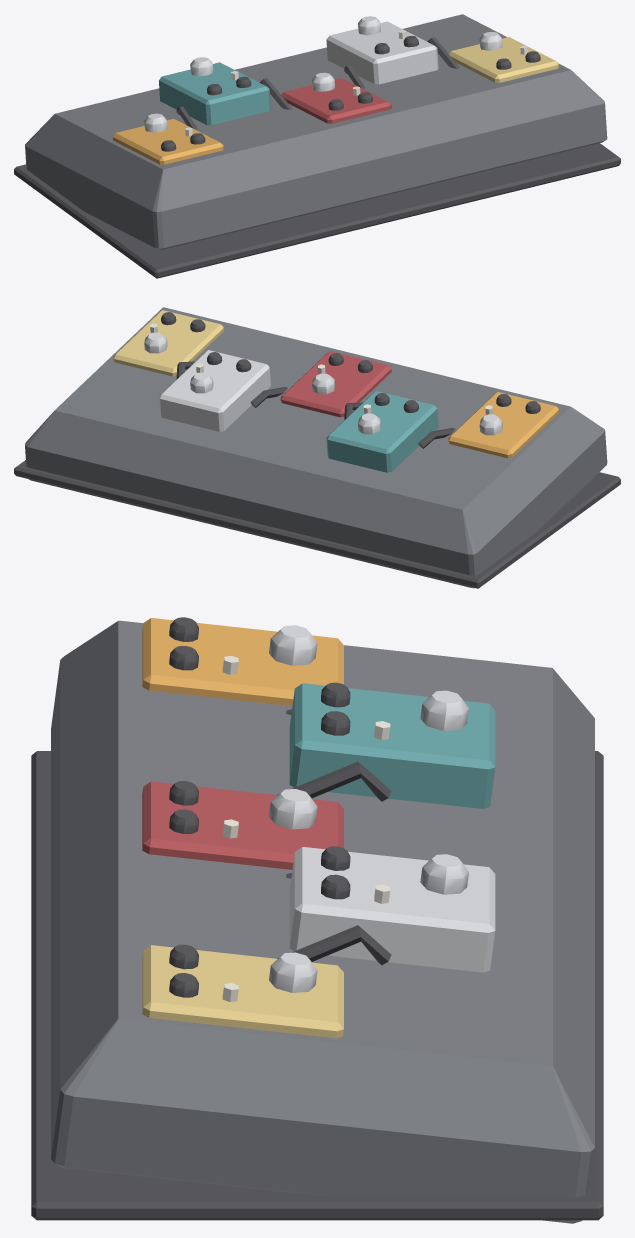
Rendered from music-recording-studio-and-instruments-pedal-board-c7c458d3__33800.glb.
3 views of the same model, one above another, from view 1: azimuth 30°, elevation 25°; view 2: azimuth 150°, elevation 25°; view 3: azimuth 270°, elevation 25° (orthographic). The views are drawn at different scales.
Parts seen in each view (by area): view 1: pedal-board; view 2: pedal-board; view 3: pedal-board.
Boxes of the visible parts, <box> form: pedal-board: <box>14,14,620,278</box>; pedal-board: <box>14,307,620,588</box>; pedal-board: <box>31,617,603,1223</box>.
Size of the model in its own units: 0.64 by 0.1512 by 0.34.
